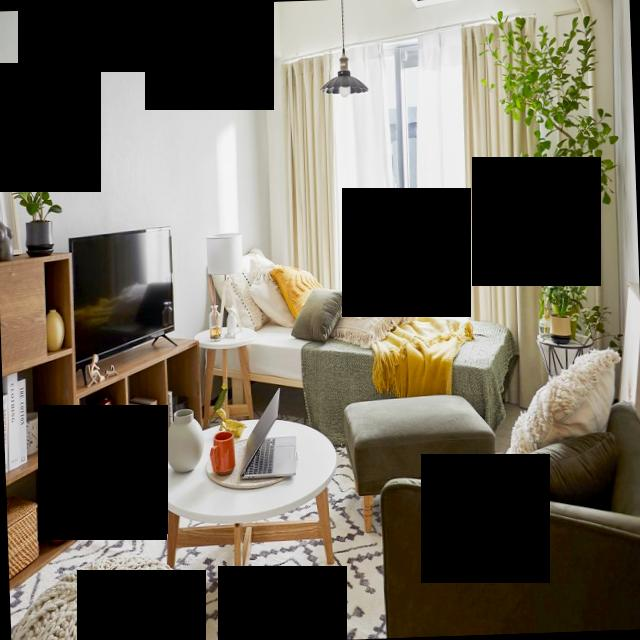vintage bed: (190, 236, 524, 451)
vintage desk: (143, 415, 345, 640), (188, 323, 264, 421)
vintage sofa: (373, 396, 640, 637)
